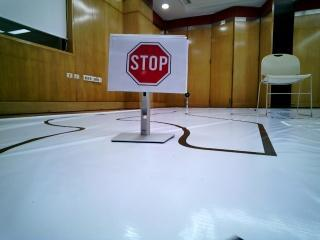stop: (115, 35, 183, 93)
